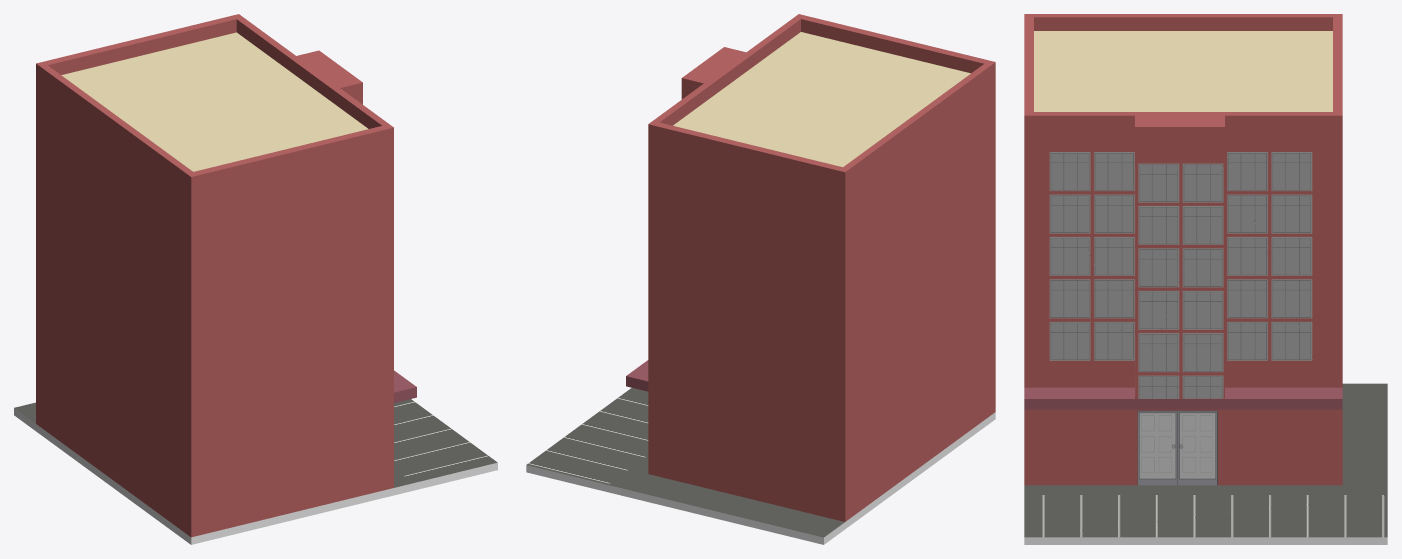
The model's file is buildings_1.dae.
3 renders of one model, left to right at view 1: azimuth 30°, elevation 25°; view 2: azimuth 150°, elevation 25°; view 3: azimuth 270°, elevation 25°, orthographic. The views are drawn at different scales.
Parts seen in each view (by area): view 1: group_0 (×5); view 2: group_0 (×6); view 3: group_0 (×11).
Part boxes in pixels (x1,y1,x2,y2): group_0 (×5): (14, 14, 497, 544); group_0 (×6): (526, 14, 995, 544); group_0 (×11): (1024, 14, 1387, 544).
Size of the model in its own units: 134 by 134 by 153.
8 materials, 7 textured.
